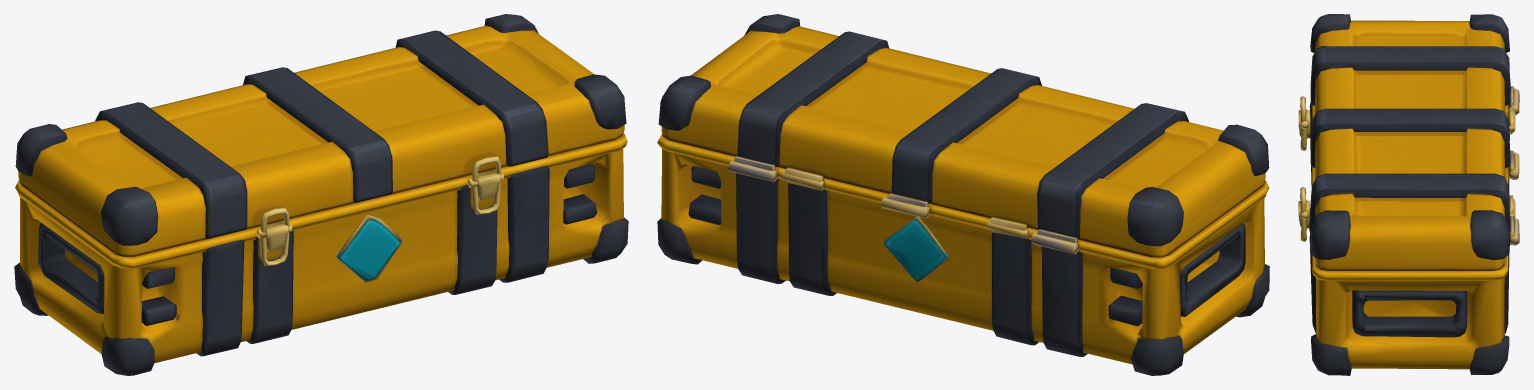
The model's file is tier-5-heavy.glb.
3 views of the same model, side by side, from view 1: azimuth 30°, elevation 25°; view 2: azimuth 150°, elevation 25°; view 3: azimuth 270°, elevation 25° (orthographic). The views are drawn at different scales.
Parts seen in each view (by area): view 1: tier-5-heavy; view 2: tier-5-heavy; view 3: tier-5-heavy.
Part boxes in pixels (bbox=[...]): tier-5-heavy: bbox=[14, 14, 628, 375]; tier-5-heavy: bbox=[657, 14, 1269, 375]; tier-5-heavy: bbox=[1298, 14, 1519, 375].
Size of the model in its own units: 2.2 by 0.7354 by 0.9458.
1 material, 1 textured.
